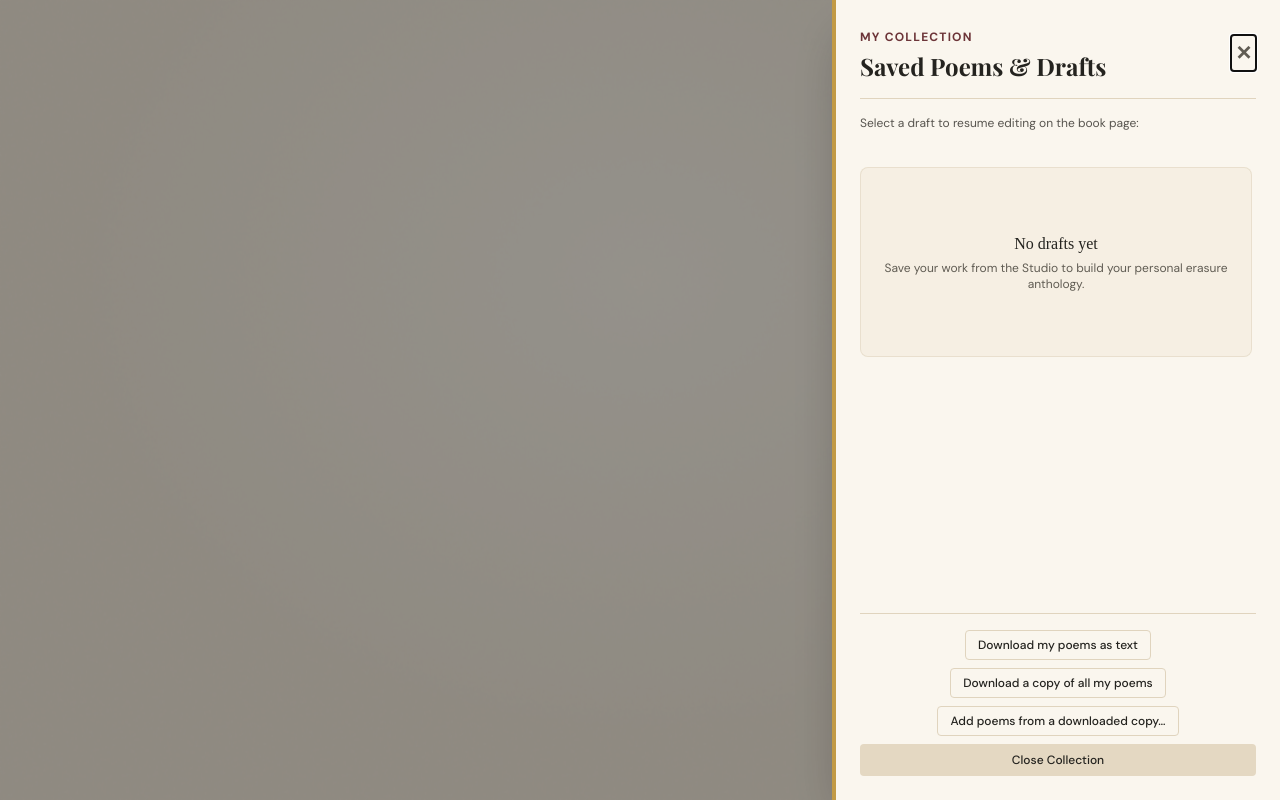
Test: backing up from My Collection › downloads nothing, and says so, when there is nothing to back up
The width and height of the screenshot is (1280, 800).
Click the button "Download a copy of all my poems". click: {"x": 1058, "y": 683}
box: [950, 668, 1166, 698]
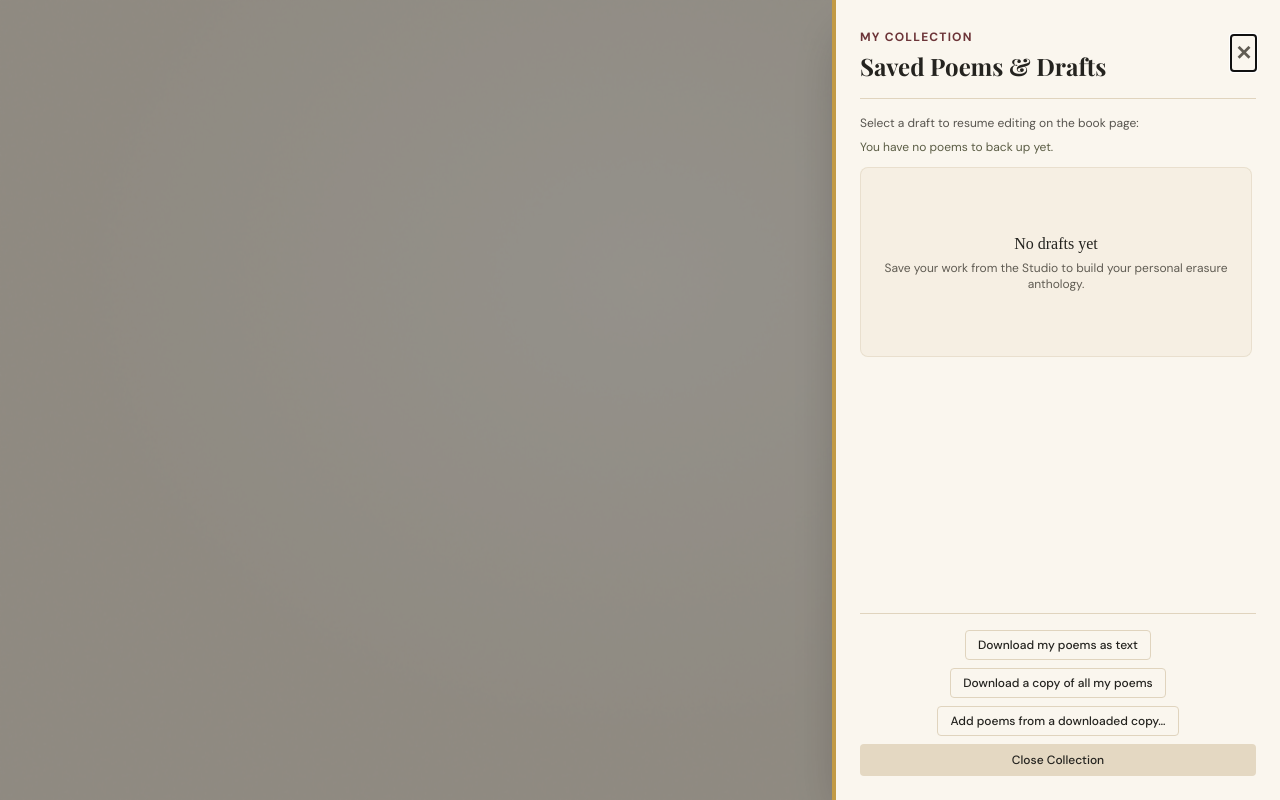
Now the message "You have no poems to back up yet." is shown, box [860, 139, 1053, 155]
